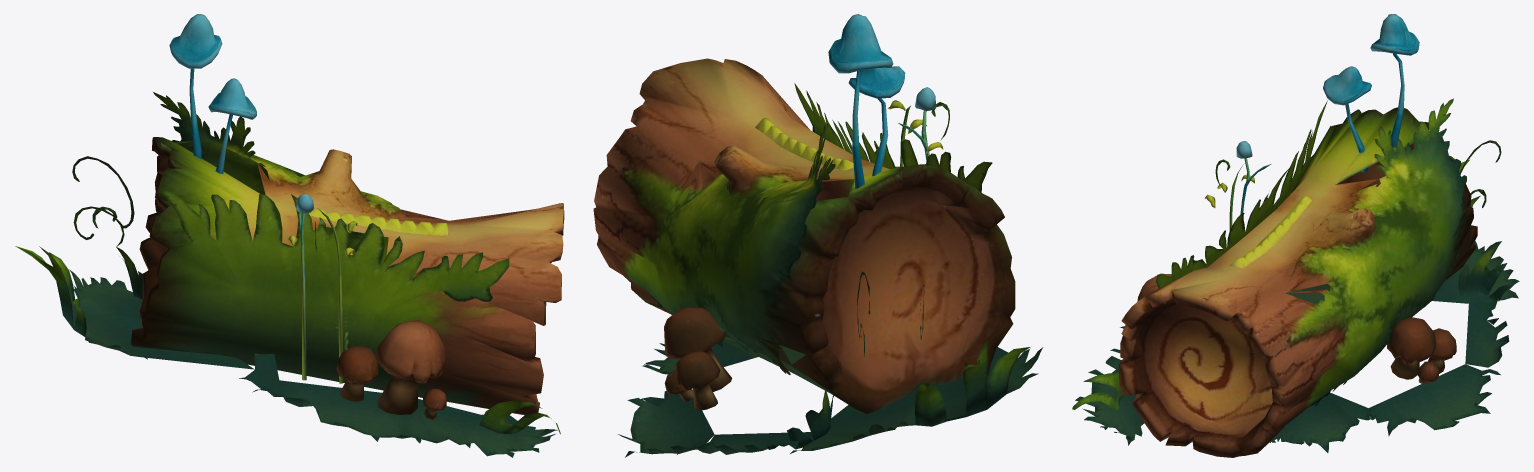
Rendered from fallen-log.glb.
The picture shows the model from 3 angles, left to right: view 1: azimuth 30°, elevation 25°; view 2: azimuth 150°, elevation 25°; view 3: azimuth 270°, elevation 25°; orthographic projection. The views are drawn at different scales.
Parts seen in each view (by area): view 1: tripo_node_c303e0b7-19fc-4827-acf9-62d24fc25397; view 2: tripo_node_c303e0b7-19fc-4827-acf9-62d24fc25397; view 3: tripo_node_c303e0b7-19fc-4827-acf9-62d24fc25397.
Boxes of the visible parts, left/top/right/bottom form: tripo_node_c303e0b7-19fc-4827-acf9-62d24fc25397: left=15, top=14, right=564, bottom=457; tripo_node_c303e0b7-19fc-4827-acf9-62d24fc25397: left=593, top=14, right=1042, bottom=457; tripo_node_c303e0b7-19fc-4827-acf9-62d24fc25397: left=1072, top=14, right=1519, bottom=457.
Size of the model in its own units: 0.998 by 0.8379 by 0.9941.
1 material, 1 textured.
